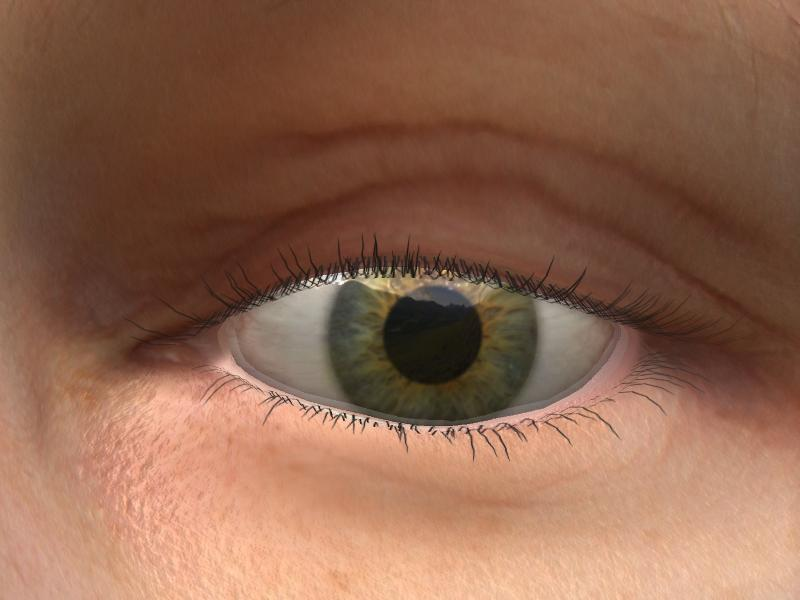eye: (330, 267, 536, 421)
